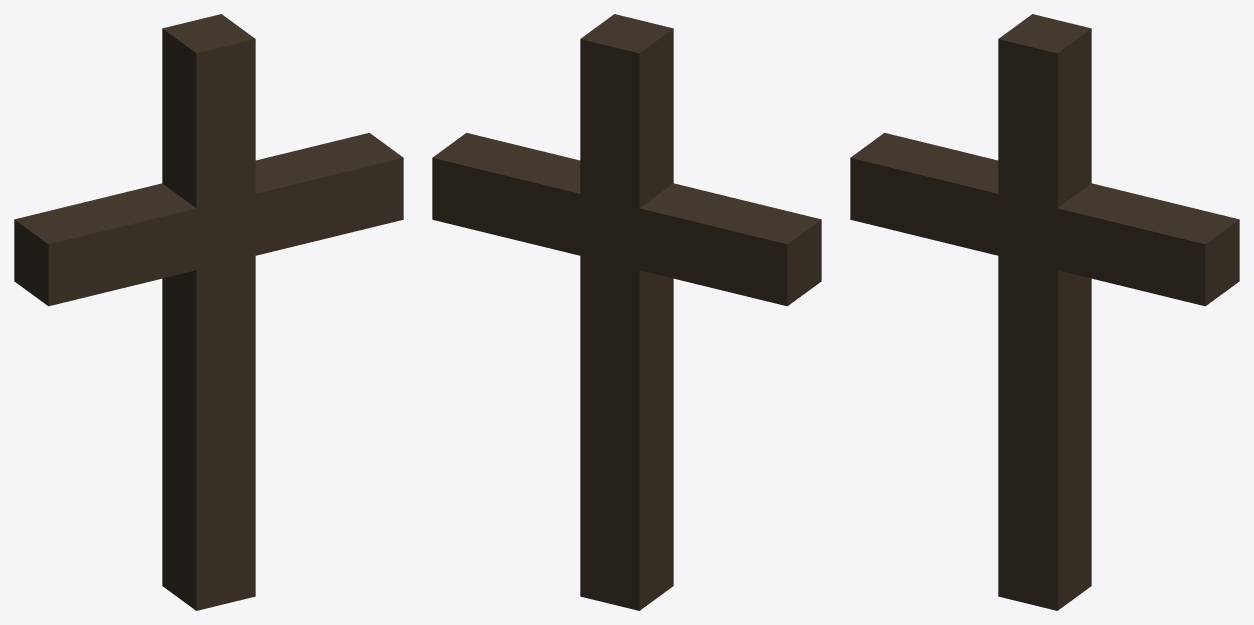
File: cross.fbx
3 views of the same model, side by side, from view 1: azimuth 30°, elevation 25°; view 2: azimuth 150°, elevation 25°; view 3: azimuth 330°, elevation 25° (orthographic).
Visible parts, largest first — view 1: cross; view 2: cross; view 3: cross.
Part boxes in pixels (x1=…): cross: x1=14, y1=14, x2=403, y2=610; cross: x1=432, y1=14, x2=821, y2=610; cross: x1=850, y1=14, x2=1239, y2=610.
Bounding box in the file's own units: 120 × 180 × 20.
Materials: 1 (1 with a texture image).
